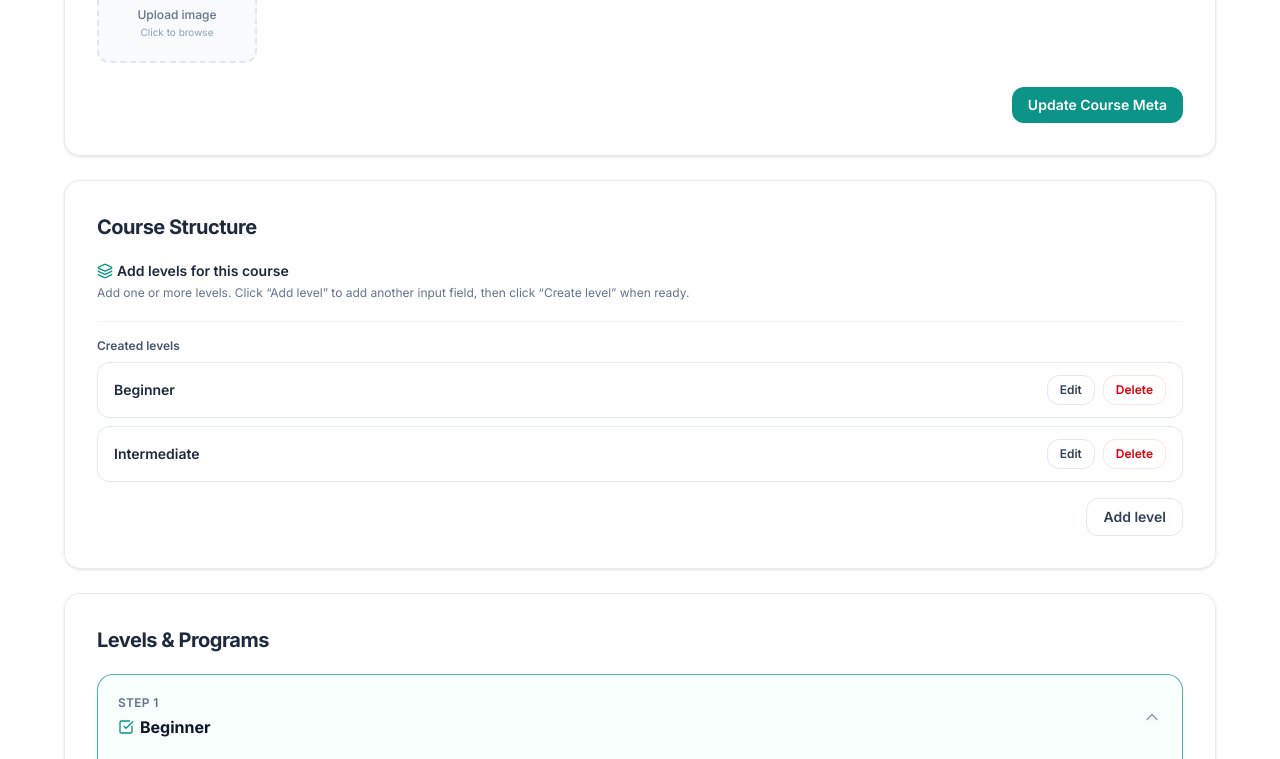
Scenario: InstituteAdminCourseBuilder – levels panel (with API modules) › cancels level delete when Cancel is clicked in confirm modal
This screenshot has width=1280, height=759.
(page scrolled)
Click the 1st button "Delete" at coordinates (1134, 390), box [1103,374,1166,404]
(page scrolled)
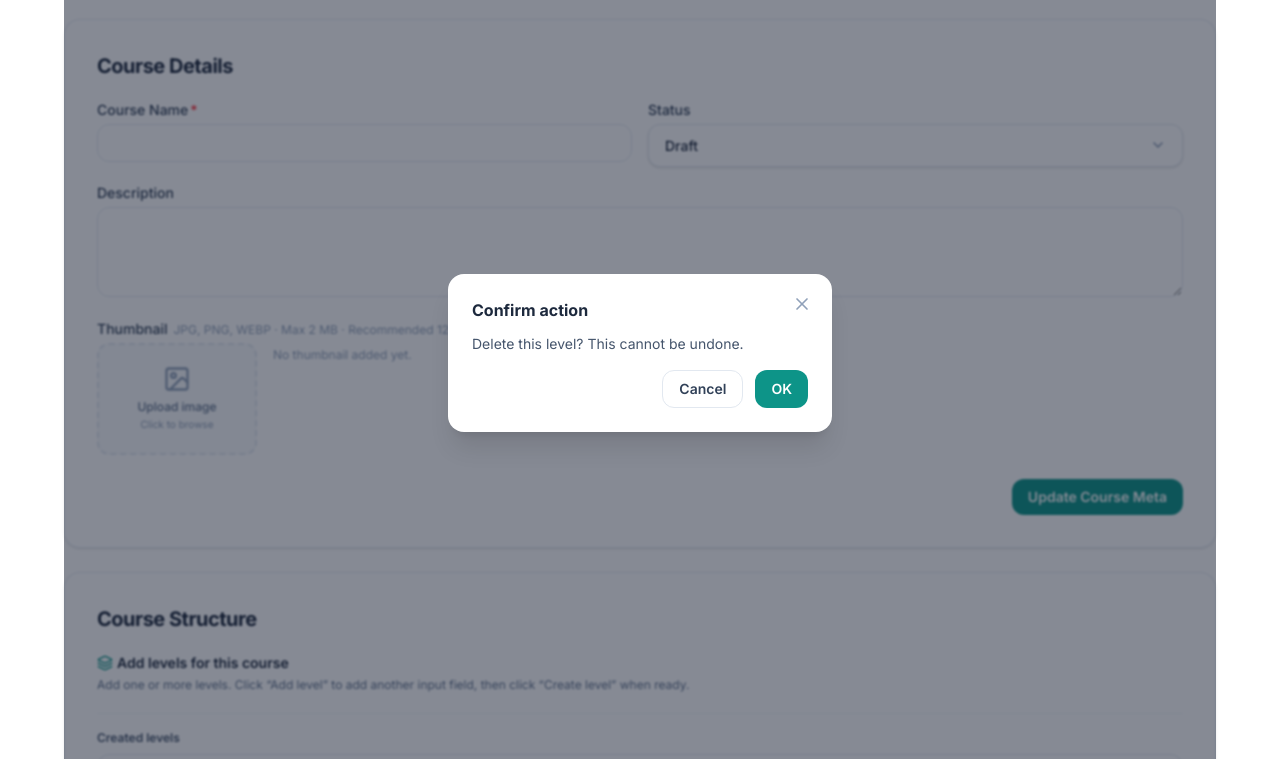
Now the heading "Confirm action" is shown, box [472,300,588,320]
Click the button "Cancel" at coordinates (703, 389), box [662,370,743,408]
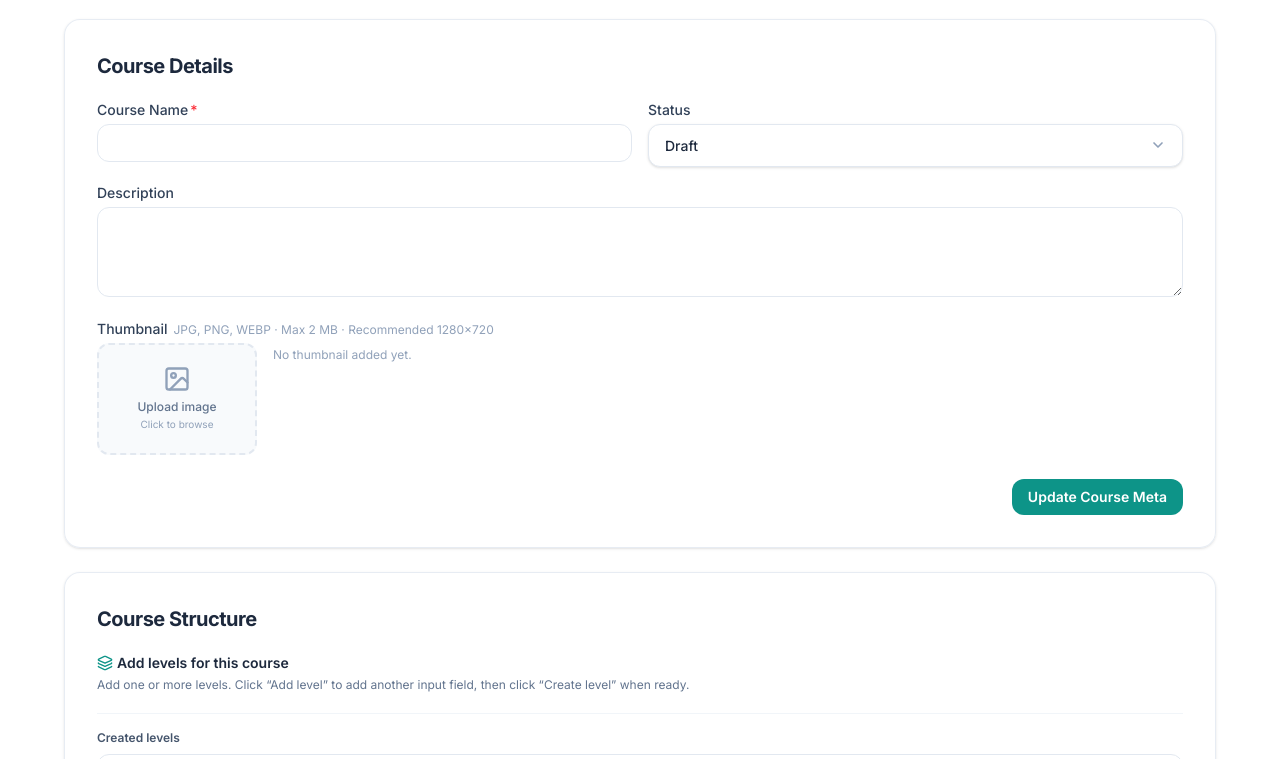
Now the heading "Confirm action" is gone
